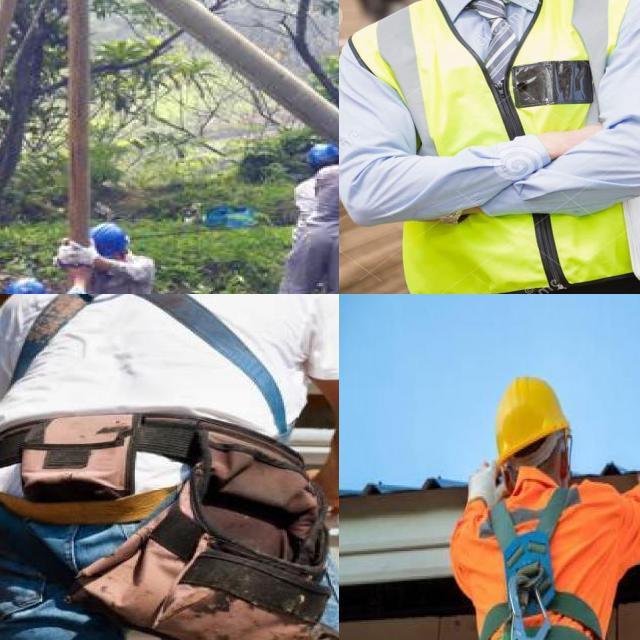Harness: (132, 294, 290, 438), (479, 486, 606, 640), (10, 294, 102, 386)
head_helmet: (82, 219, 136, 257), (294, 132, 339, 172), (0, 275, 47, 294)
person: (339, 0, 640, 294), (53, 209, 165, 294), (291, 142, 339, 294)
vest: (339, 0, 640, 285)
